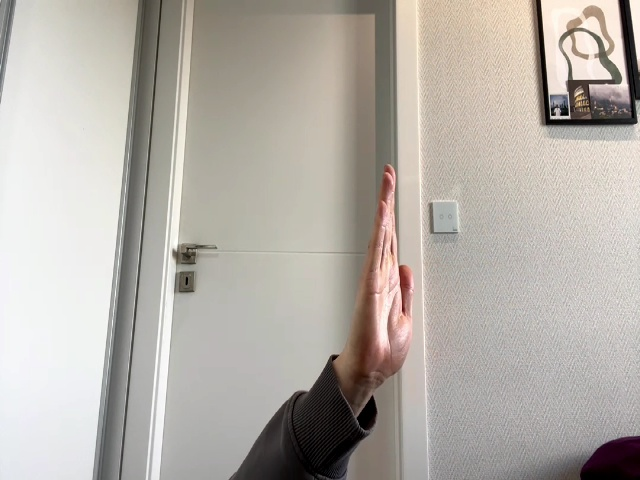SZ: (353, 164, 414, 383)
